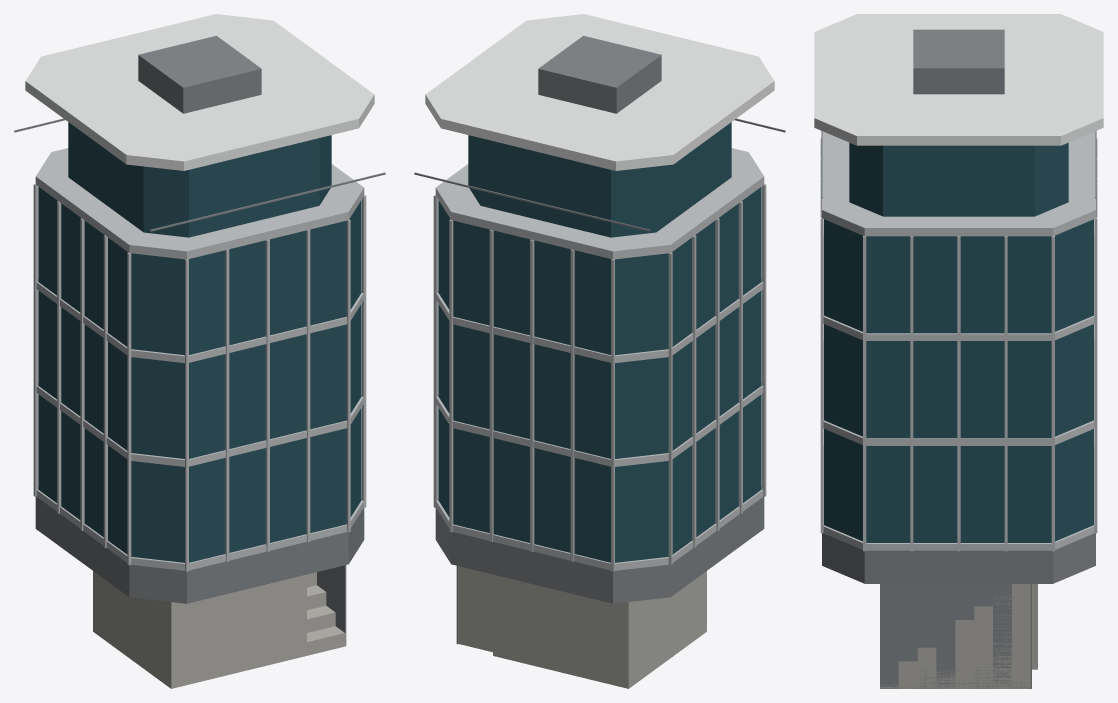
Rendered from mza_tower.glb.
The picture shows the model from 3 angles, left to right: view 1: azimuth 30°, elevation 25°; view 2: azimuth 150°, elevation 25°; view 3: azimuth 270°, elevation 25°; orthographic projection.
Visible parts, largest first — view 1: monza-tower; view 2: monza-tower; view 3: monza-tower.
Boxes of the visible parts, x1=… form: monza-tower: x1=14, y1=14, x2=385, y2=688; monza-tower: x1=414, y1=14, x2=785, y2=688; monza-tower: x1=814, y1=14, x2=1103, y2=688.
Bounding box in the file's own units: 9.5 × 21.3 × 9.5.
